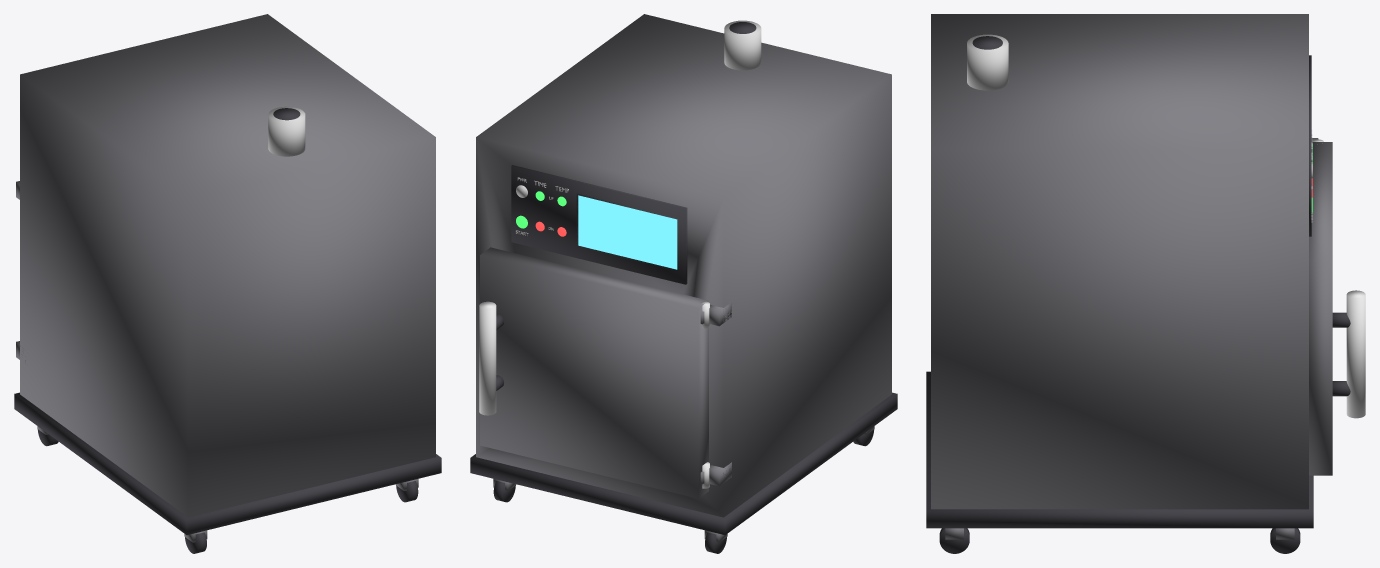
Rendered from muffle_furnace.glb.
3 views of the same model, side by side, from view 1: azimuth 30°, elevation 25°; view 2: azimuth 150°, elevation 25°; view 3: azimuth 270°, elevation 25° (orthographic). The views are drawn at different scales.
Visible parts, largest first — view 1: Housing_Main, Base, Chimney_Pipe; view 2: Housing_Main, Lid_DoorOuter, CP_Panel_Dark, Base, LCD_Screen, Lid_HandleGrip, Chimney_Pipe, LCD_Bezel; view 3: Housing_Main, Base, Lid_DoorOuter, Lid_HandleGrip, Chimney_Pipe, CP_Panel_Dark.
Boxes of the visible parts, left/top/right/bottom form: Housing_Main: left=20, top=14, right=435, bottom=517; Base: left=14, top=392, right=441, bottom=534; Chimney_Pipe: left=268, top=106, right=305, bottom=156; Housing_Main: left=476, top=14, right=891, bottom=517; Lid_DoorOuter: left=480, top=247, right=708, bottom=498; CP_Panel_Dark: left=511, top=165, right=687, bottom=284; Base: left=470, top=392, right=897, bottom=534; LCD_Screen: left=578, top=195, right=677, bottom=269; Lid_HandleGrip: left=479, top=301, right=496, bottom=415; Chimney_Pipe: left=724, top=20, right=761, bottom=70; LCD_Bezel: left=576, top=193, right=678, bottom=271; Housing_Main: left=931, top=14, right=1308, bottom=509; Base: left=926, top=371, right=1313, bottom=528; Lid_DoorOuter: left=1309, top=142, right=1332, bottom=475; Lid_HandleGrip: left=1346, top=290, right=1365, bottom=418; Chimney_Pipe: left=967, top=34, right=1008, bottom=90; CP_Panel_Dark: left=1309, top=55, right=1311, bottom=236.
Size of the model in its own units: 0.35 by 0.527 by 0.465.
